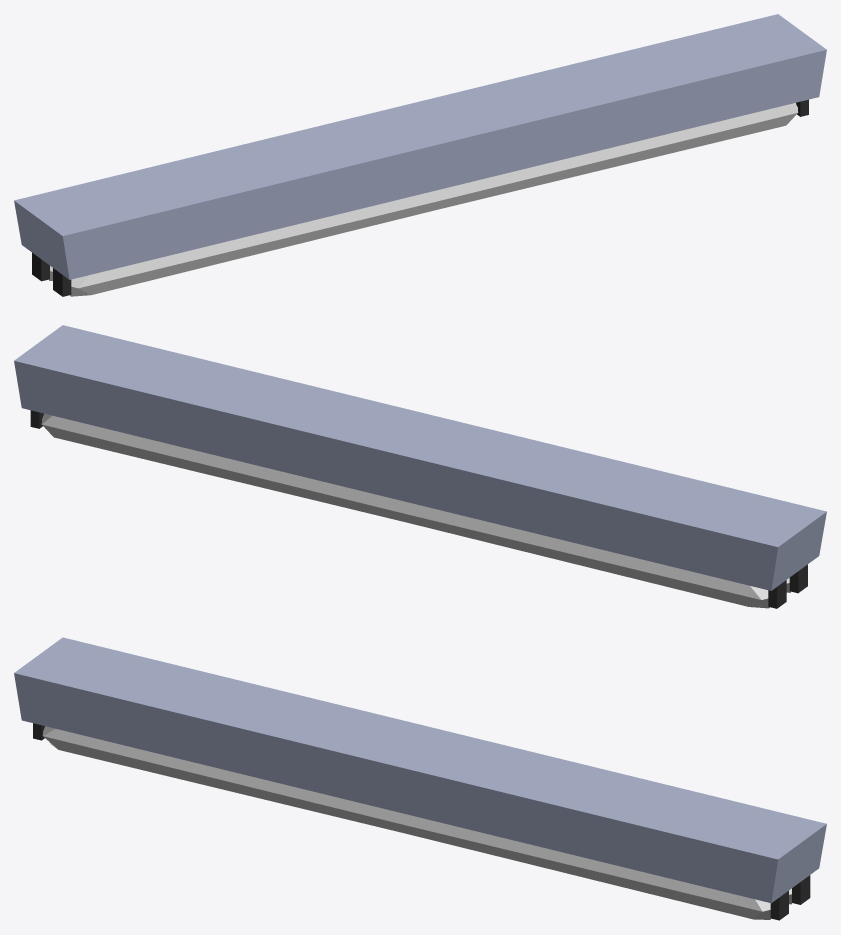
File: Lampadas.fbx
3 views of the same model, one above another, from view 1: azimuth 30°, elevation 25°; view 2: azimuth 150°, elevation 25°; view 3: azimuth 330°, elevation 25° (orthographic).
Parts seen in each view (by area): view 1: Cube; view 2: Cube; view 3: Cube.
Boxes of the visible parts, x1=… form: Cube: x1=14, y1=14, x2=826, y2=296; Cube: x1=14, y1=325, x2=826, y2=608; Cube: x1=14, y1=637, x2=826, y2=920.
Size of the model in its own units: 1073 by 104 by 119.
